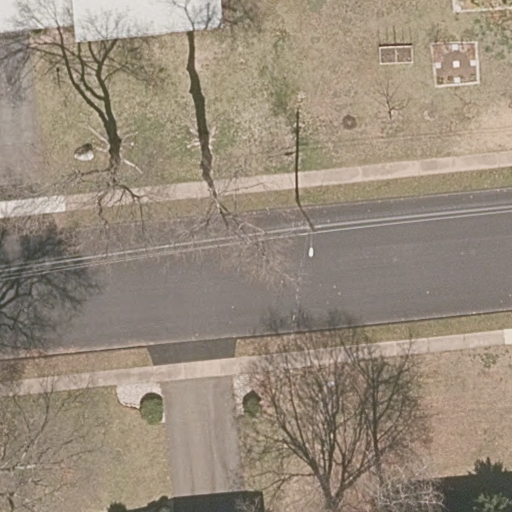DT: (296, 199, 317, 257)
